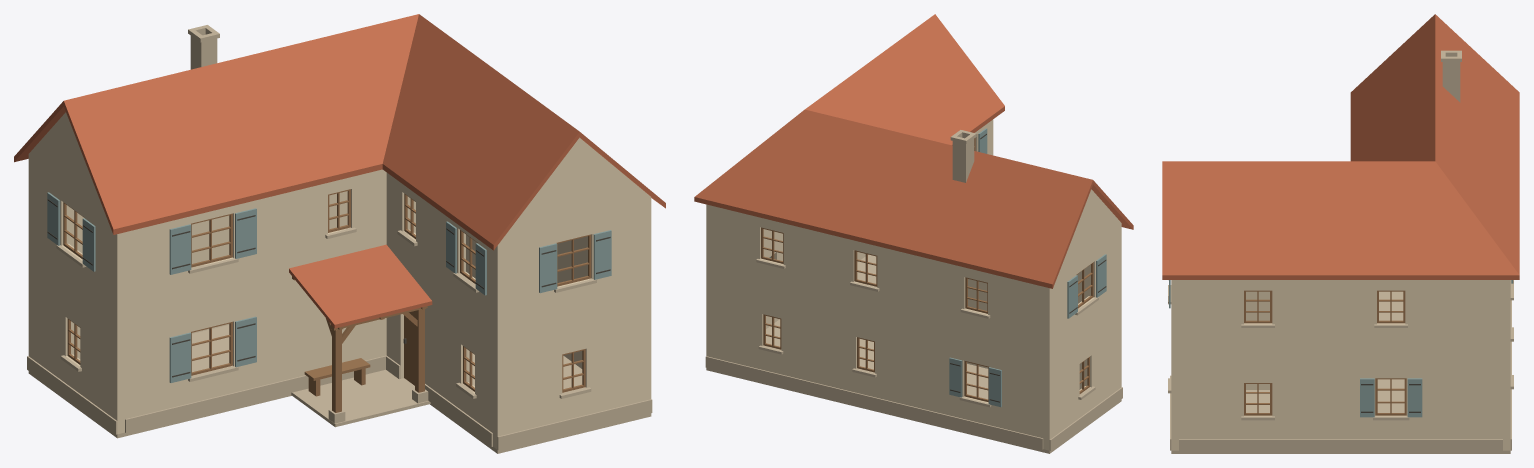
Rendered from Casa-del-Patio.glb.
The picture shows the model from 3 angles, left to right: view 1: azimuth 30°, elevation 25°; view 2: azimuth 150°, elevation 25°; view 3: azimuth 270°, elevation 25°; orthographic projection. The views are drawn at different scales.
Parts seen in each view (by area): view 1: Cubierta principal · L continua, Muro · Patio · ala larga, Muro · Hastial del ala corta, Muro · Hastial del ala larga, Muro · Patio · entrada, Tejabán · cubierta, Umbral y solado · porche, Piso interior · planta baja, Zócalo · Patio · ala larga, Muro · Calle · ala larga, Zócalo · Hastial del ala corta, Porche · postes, vigas y apoyos (+17 smaller); view 2: Cubierta principal · L continua, Muro · Calle · ala larga, Muro · Hastial del ala larga, Zócalo · Calle · ala larga, Piso interior · planta baja, Zócalo · Hastial del ala larga, Muro · Patio · ala larga, Chimenea, Muro · Calle · ala corta, Postigo · 5.1 D, Postigo · 5.1 I, Marco · 5.1; view 3: Cubierta principal · L continua, Muro · Calle · ala corta, Zócalo · Calle · ala corta, Piso interior · planta baja, Muro · Hastial del ala corta, Muro · Calle · ala larga, Muro · Patio · entrada, Postigo · 6.2 D, Chimenea, Postigo · 6.2 I, Marco · 6.2, Marco · 6.3 (+2 smaller).
Part boxes in pixels (left/top/right/bottom): Cubierta principal · L continua: left=14, top=14, right=665, bottom=250; Muro · Patio · ala larga: left=125, top=169, right=386, bottom=418; Muro · Hastial del ala corta: left=493, top=137, right=651, bottom=449; Muro · Hastial del ala larga: left=28, top=112, right=124, bottom=434; Muro · Patio · entrada: left=386, top=172, right=492, bottom=432; Tejabán · cubierta: left=289, top=244, right=432, bottom=328; Umbral y solado · porche: left=291, top=369, right=430, bottom=427; Piso interior · planta baja: left=28, top=325, right=651, bottom=453; Zócalo · Patio · ala larga: left=125, top=355, right=386, bottom=432; Muro · Calle · ala larga: left=69, top=191, right=415, bottom=358; Zócalo · Hastial del ala corta: left=497, top=399, right=652, bottom=450; Porche · postes, vigas y apoyos: left=292, top=276, right=427, bottom=412; Cubierta principal · L continua: left=694, top=14, right=1133, bottom=288; Muro · Calle · ala larga: left=706, top=204, right=1043, bottom=438; Muro · Hastial del ala larga: left=1043, top=189, right=1121, bottom=450; Zócalo · Calle · ala larga: left=705, top=356, right=1043, bottom=449; Piso interior · planta baja: left=706, top=254, right=1121, bottom=453; Zócalo · Hastial del ala larga: left=1049, top=387, right=1122, bottom=450; Muro · Patio · ala larga: left=967, top=266, right=1088, bottom=389; Chimenea: left=952, top=135, right=974, bottom=182; Muro · Calle · ala corta: left=763, top=229, right=865, bottom=328; Postigo · 5.1 D: left=949, top=357, right=962, bottom=397; Postigo · 5.1 I: left=988, top=367, right=1001, bottom=407; Marco · 5.1: left=964, top=360, right=988, bottom=402; Cubierta principal · L continua: left=1162, top=14, right=1519, bottom=279; Muro · Calle · ala corta: left=1179, top=280, right=1502, bottom=439; Zócalo · Calle · ala corta: left=1179, top=439, right=1502, bottom=451; Piso interior · planta baja: left=1171, top=291, right=1510, bottom=453; Muro · Hastial del ala corta: left=1171, top=280, right=1178, bottom=450; Muro · Calle · ala larga: left=1503, top=280, right=1510, bottom=450; Muro · Patio · entrada: left=1246, top=291, right=1269, bottom=389; Postigo · 6.2 D: left=1407, top=378, right=1422, bottom=417; Chimenea: left=1442, top=56, right=1460, bottom=102; Postigo · 6.2 I: left=1360, top=378, right=1374, bottom=417; Marco · 6.2: left=1375, top=378, right=1406, bottom=415; Marco · 6.3: left=1244, top=290, right=1272, bottom=323.
Size of the model in its own units: 11.48 by 8.27 by 9.48.
